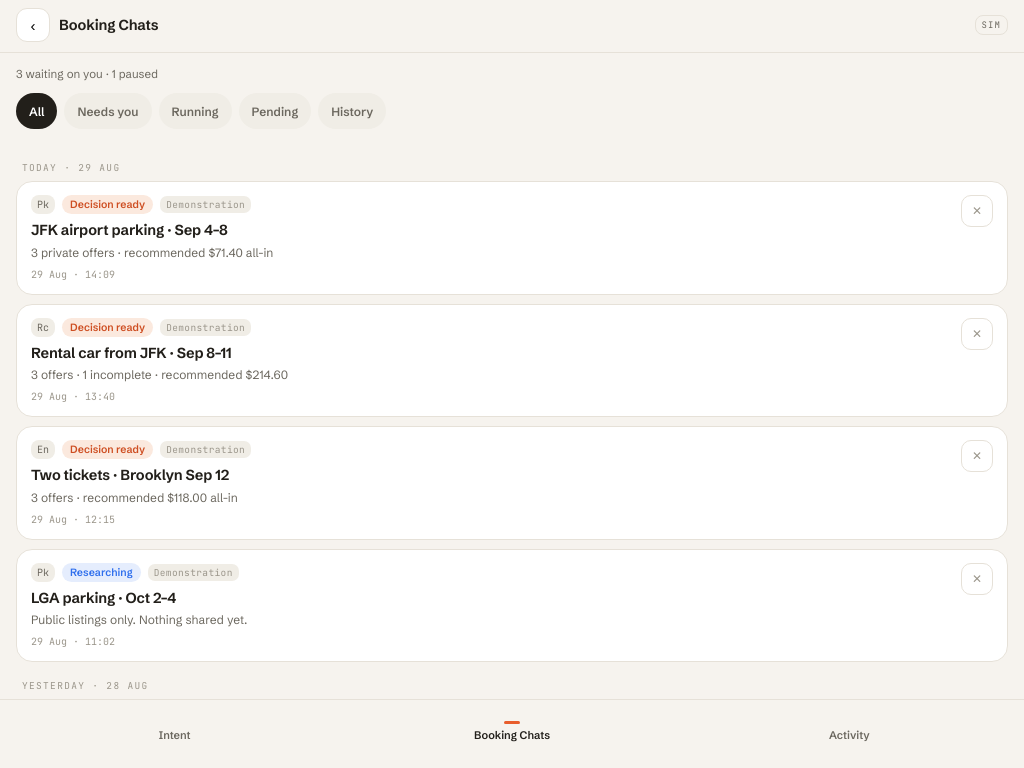
Test: COMP-G1-05 Phase 1 Reservedge shell › filters the inbox, deletes a seed draft, and redirects /inbox
Click the tab "Pending": [275, 111] box [239,93,311,129]
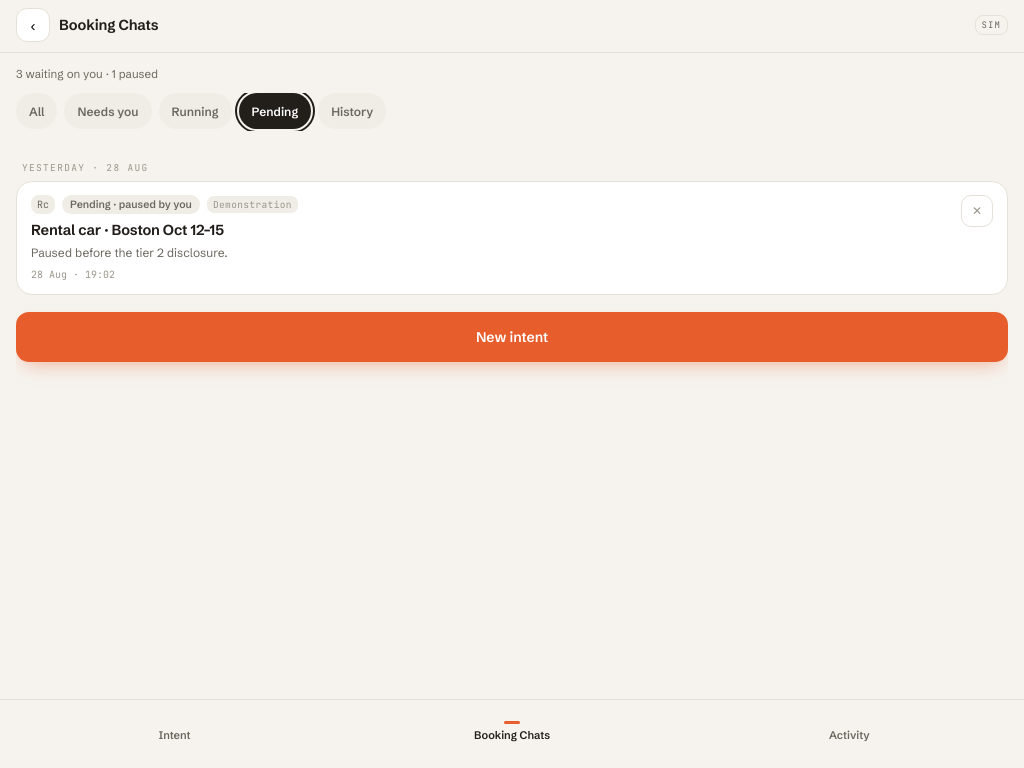
Now the text "Pending · paused by you" is shown, box [62,195,200,214]
Click the tab "Running": [195, 111] box [159,93,232,129]
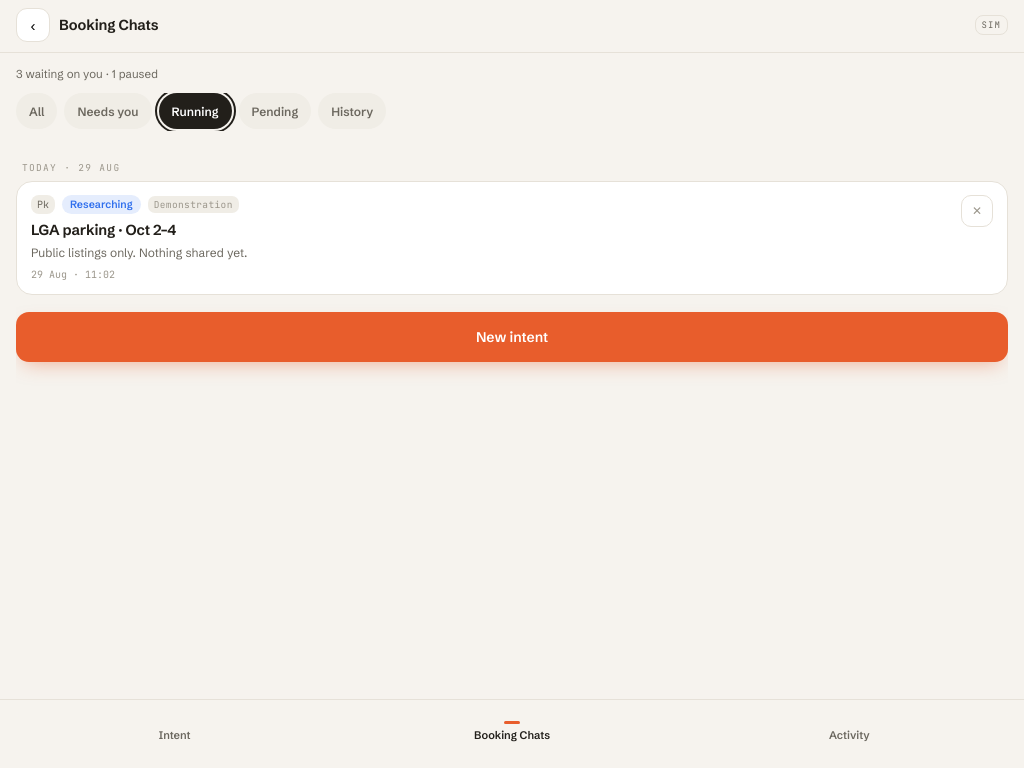
Now the text "LGA parking · Oct 2–4" is shown, box [31,221,176,239]
Click the tab "Needs you": [108, 111] box [64,93,152,129]
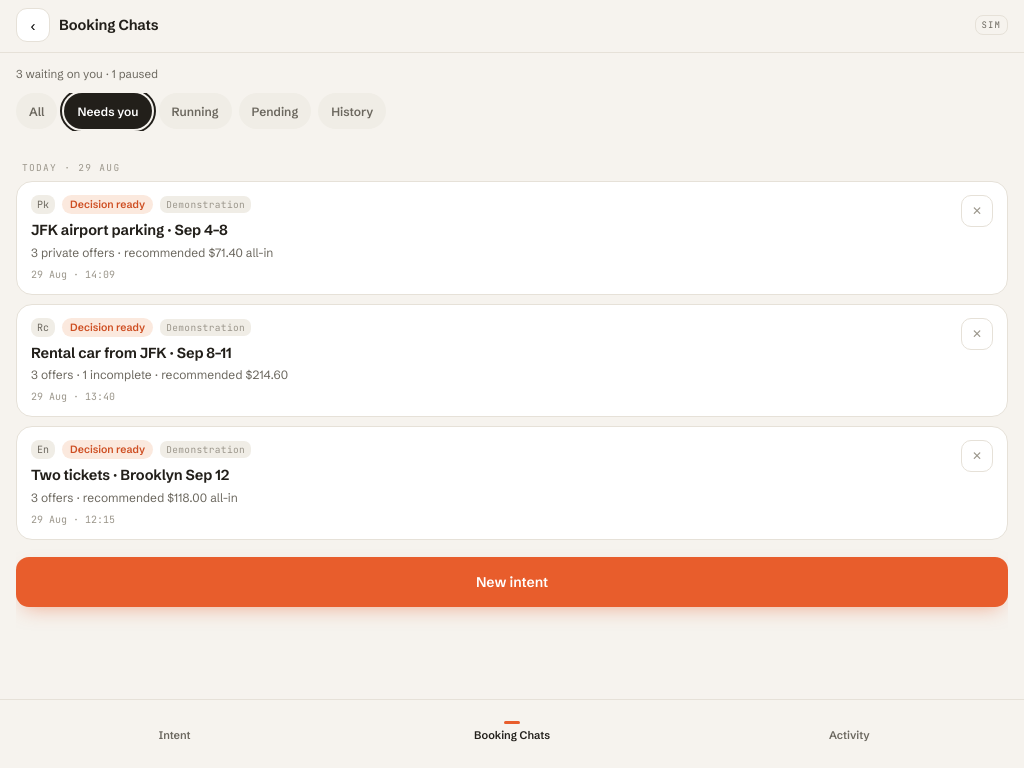
Click the button named "Delete JFK airport parking · Sep 4–8": [977, 211] box [961,195,993,227]
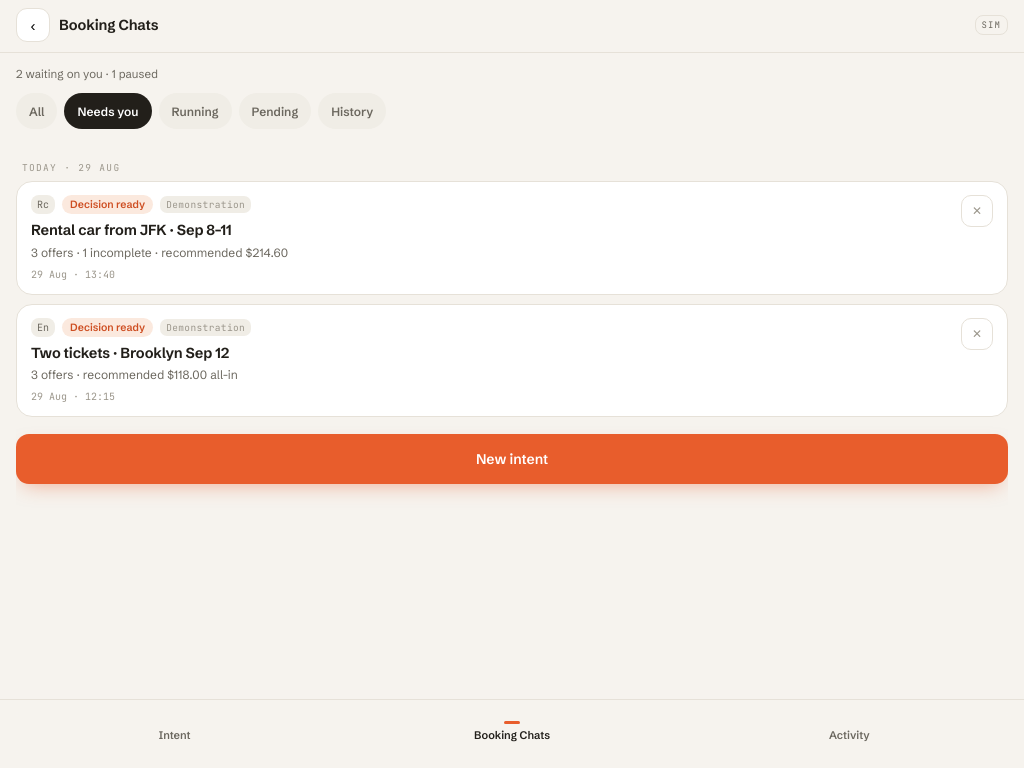
Now the button "JFK airport parking · Sep 4–8" is gone
